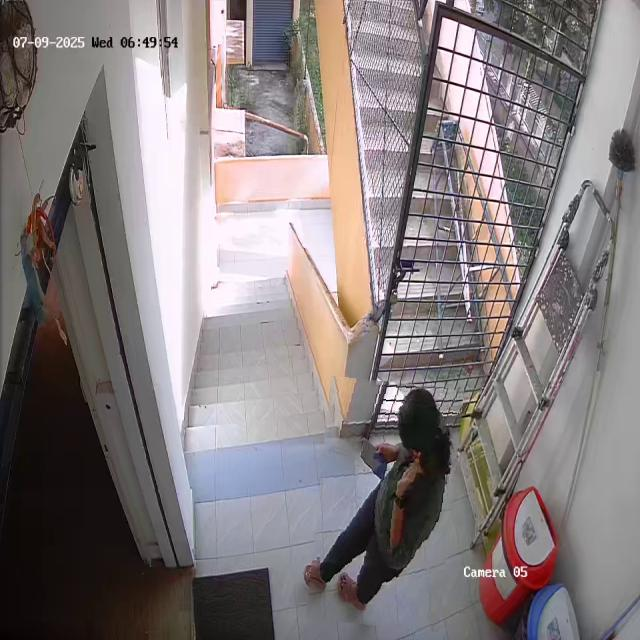person: (312, 379, 458, 629)
